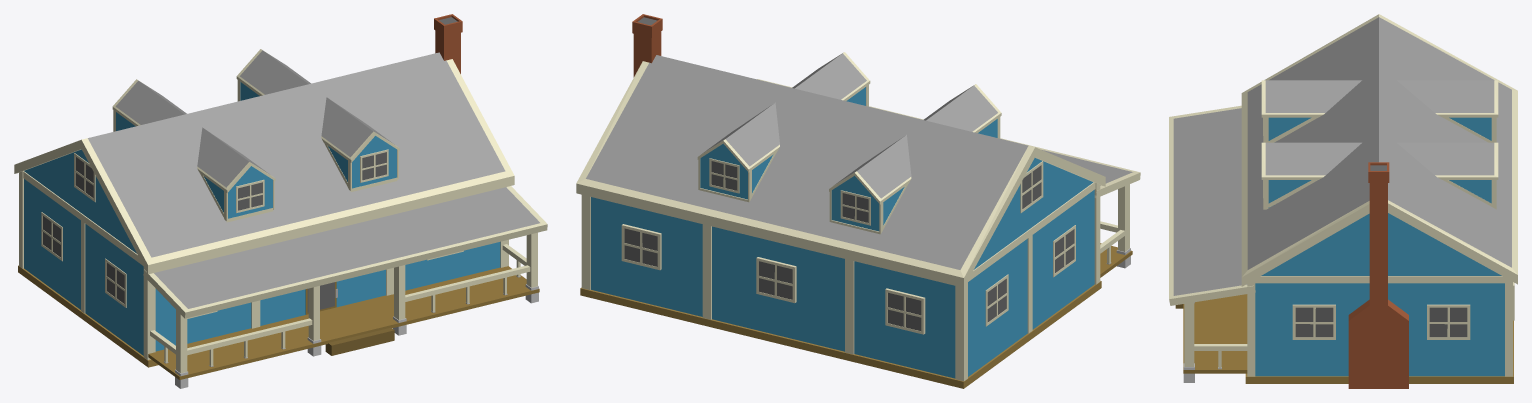
The model's file is houses3_2.fbx.
The picture shows the model from 3 angles, left to right: view 1: azimuth 30°, elevation 25°; view 2: azimuth 150°, elevation 25°; view 3: azimuth 270°, elevation 25°; orthographic projection. The views are drawn at different scales.
Visible parts, largest first — view 1: Cube_3; view 2: Cube_3; view 3: Cube_3.
Part boxes in pixels (x1,y1,x2,y2): Cube_3: (14,14,547,388); Cube_3: (576,14,1140,388); Cube_3: (1169,14,1517,388).
Size of the model in its own units: 1290 by 693 by 1006.
